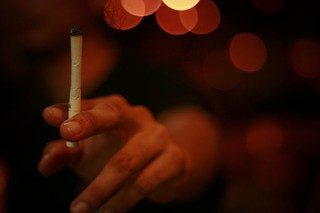cigarette: (64, 22, 86, 150)
